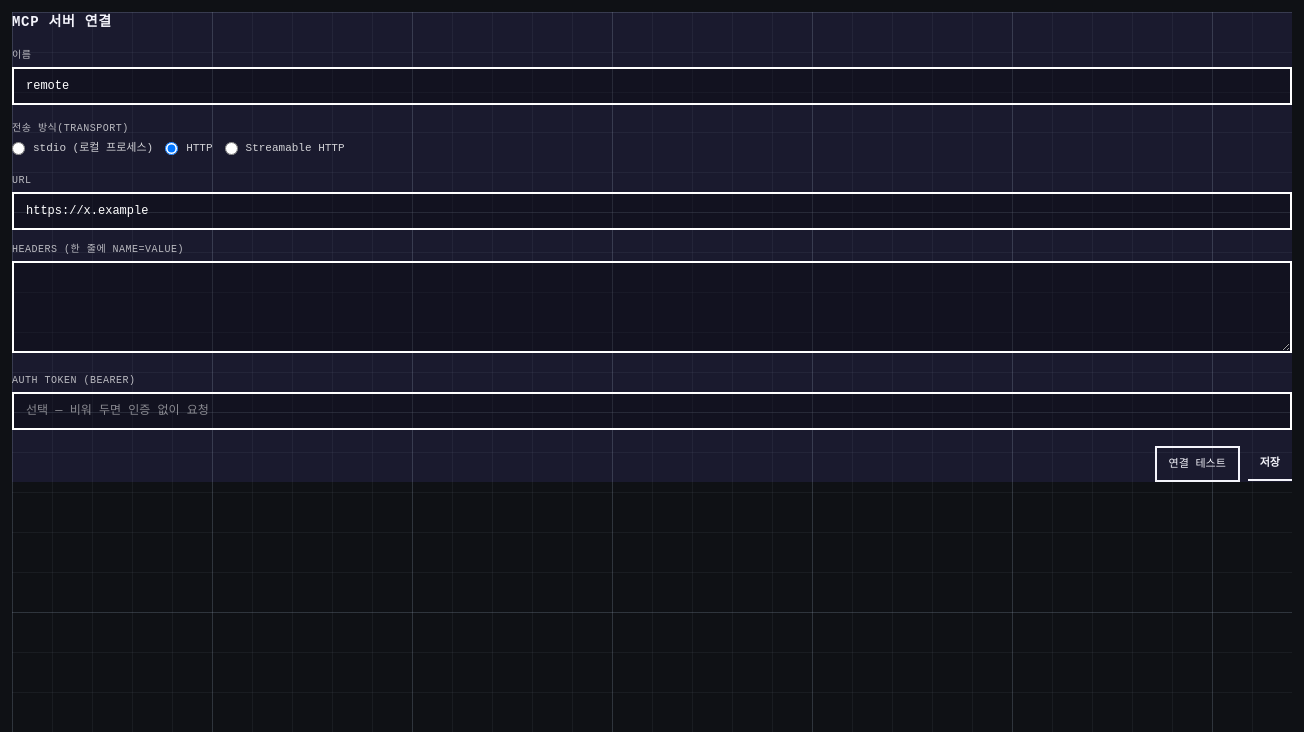
U7. 연결 테스트 실패 — code·message 가 결과 영역에 렌더된다
Click the button with aria-label "MCP 연결 테스트": (1197, 464) [1154,446,1240,482]
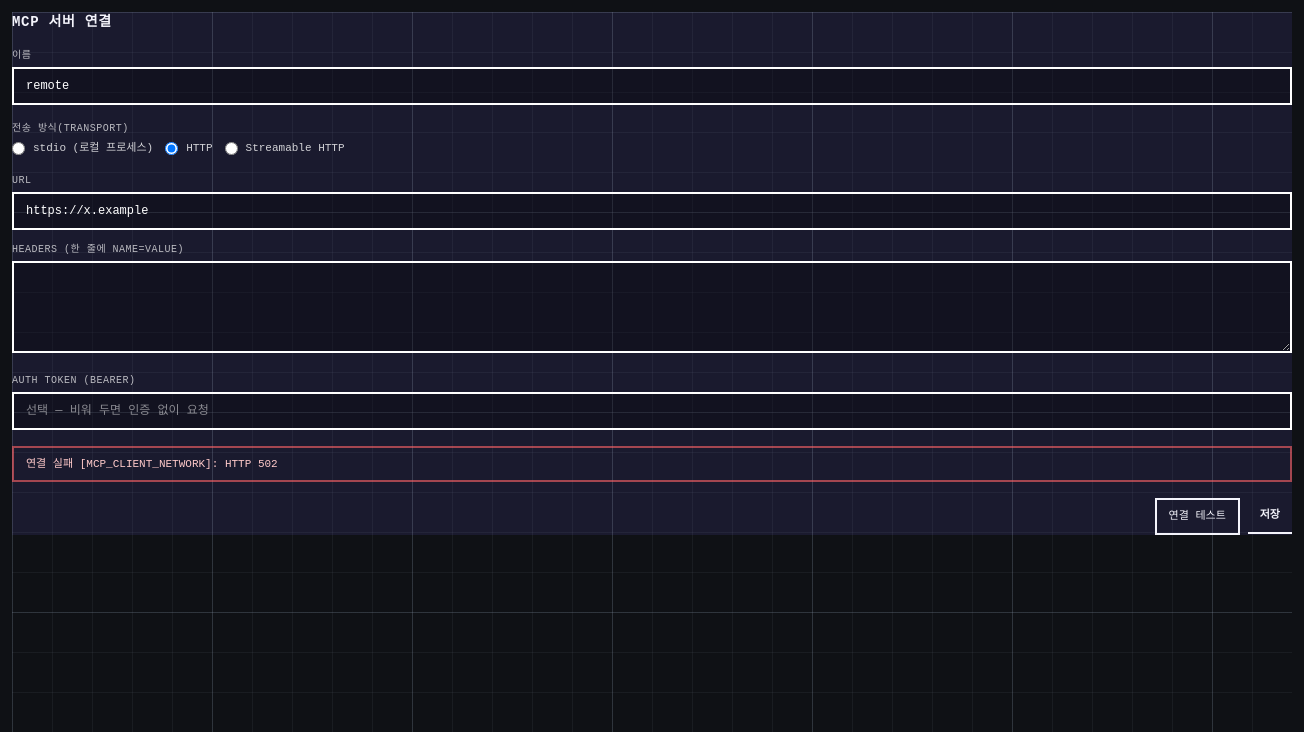
Now the message "연결 실패 [MCP_CLIENT_NETWORK]: HTTP 502" is shown, box [12,446,1292,482]
Now the message with test id "mcp-test-outcome" shows "연결 실패", box [26,458,278,470]
Now the message with test id "mcp-test-outcome" shows "MCP_CLIENT_NETWORK", box [26,458,278,470]
